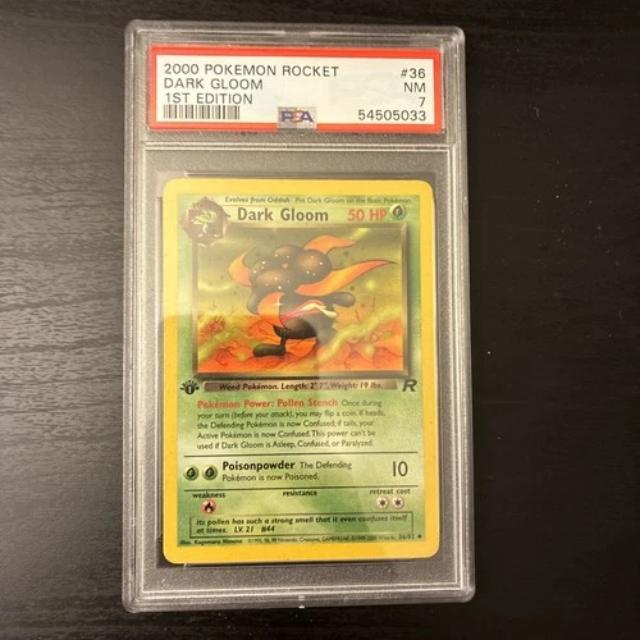Card: (155, 172, 445, 571)
Name: (232, 204, 333, 227)
